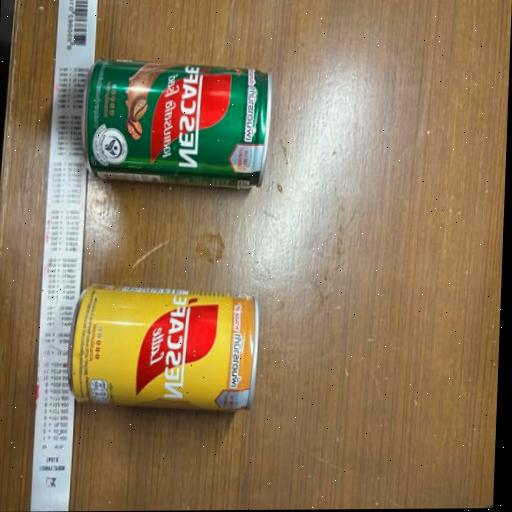bottle: (62, 30, 291, 214), (55, 265, 275, 443)
